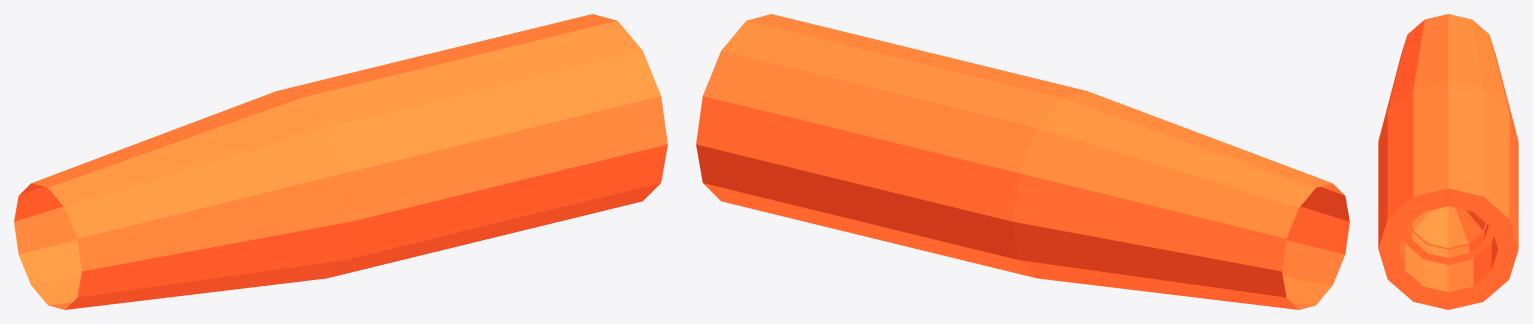
File: mig17Afterburner.glb
3 views of the same model, side by side, from view 1: azimuth 30°, elevation 25°; view 2: azimuth 150°, elevation 25°; view 3: azimuth 270°, elevation 25° (orthographic). The views are drawn at different scales.
Visible parts, largest first — view 1: Object_1 1; view 2: Object_1 1; view 3: Object_1 1.
Boxes of the visible parts, bbox=[...] form: Object_1 1: bbox=[14, 14, 667, 309]; Object_1 1: bbox=[696, 14, 1349, 309]; Object_1 1: bbox=[1378, 14, 1518, 309].
Size of the model in its own units: 1.79 by 0.5211 by 0.5457.
